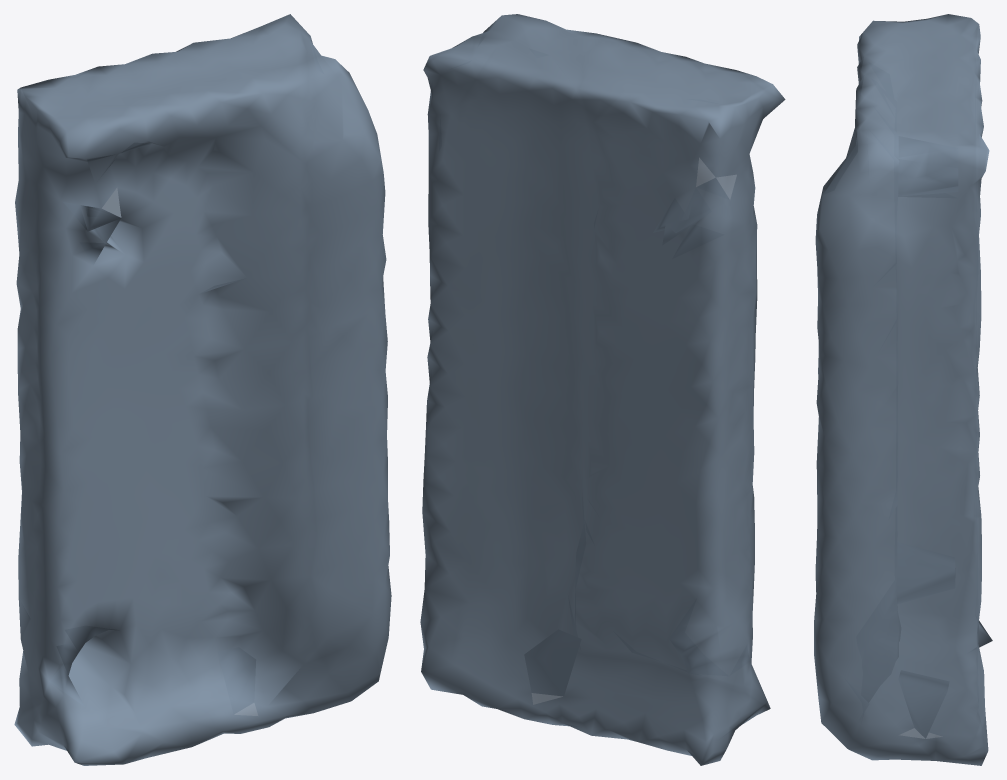
Rendered from sample_645_recon.obj.
3 views of the same model, side by side, from view 1: azimuth 30°, elevation 25°; view 2: azimuth 150°, elevation 25°; view 3: azimuth 270°, elevation 25° (orthographic). The views are drawn at different scales.
Size of the model in its own units: 0.8765 by 1.78 by 0.4575.
